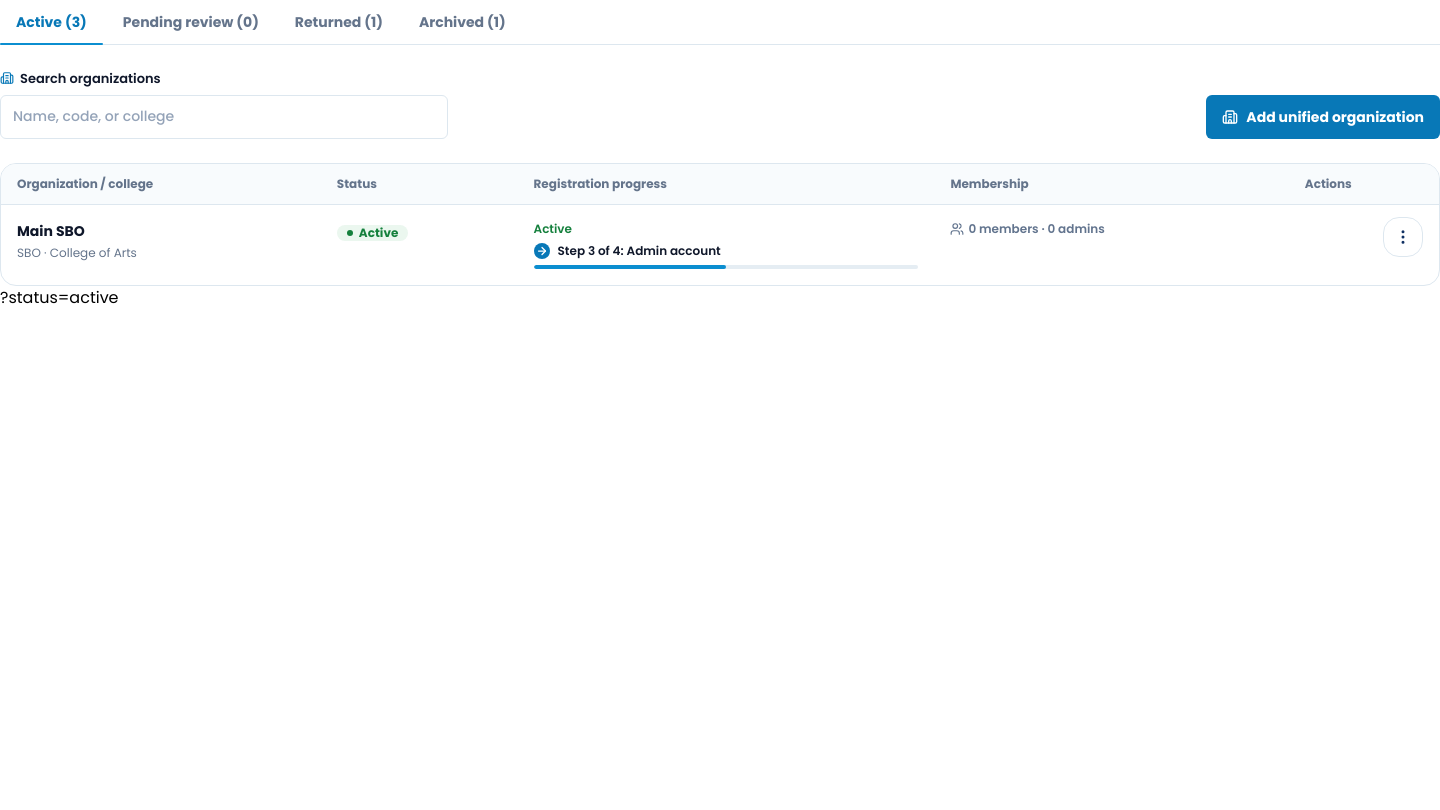
Test: SystemOrganizationsPage › lists organizations in a table and deletes through a three-dot action with typed confirmation
Expected: the heading "Main SBO" is shown, [17,220,85,240]
Expected: the table is shown, [1,164,1439,284]
Click the button named "Actions for Main SBO".
click(1403, 236)  # box [1383,216,1423,256]
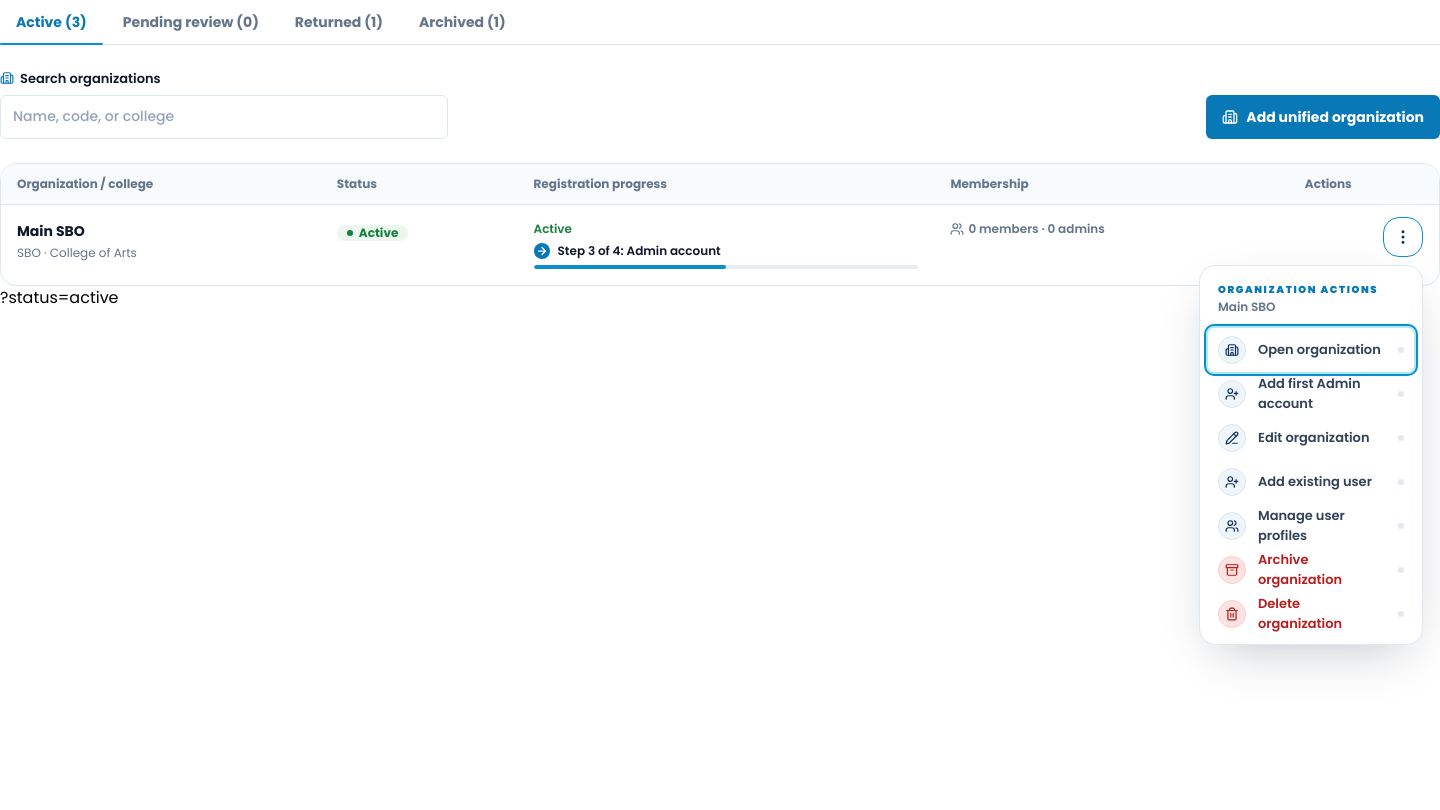
Click the menu item "Delete organization".
click(1311, 614)  # box [1208,592,1414,636]
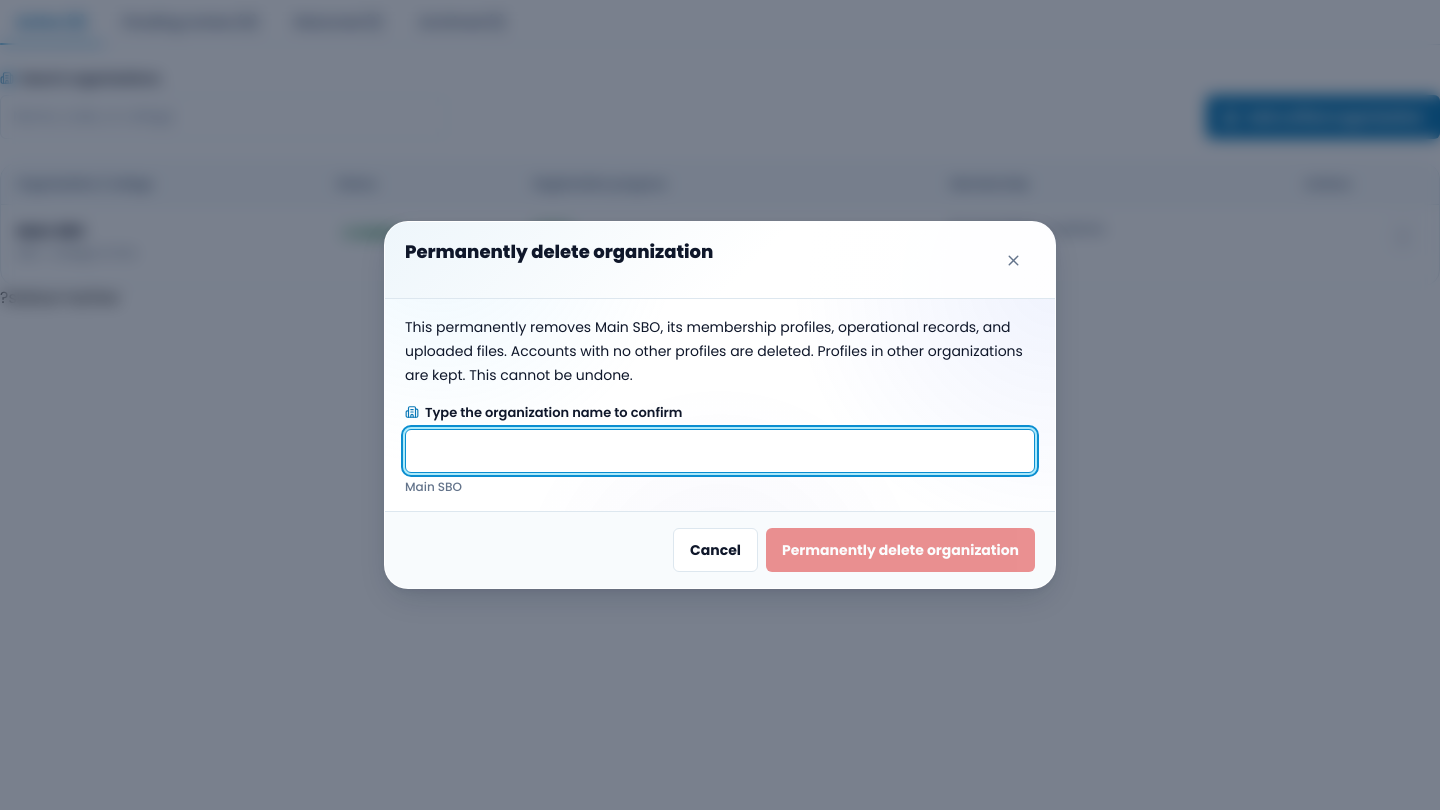
Result: the button "Permanently delete organization" is disabled at [766,528,1035,572]
Type "Main SBO" into the field labelled "Type the organization name to confirm".
click(720, 451); type("Main SBO")  # box [405,429,1035,473]
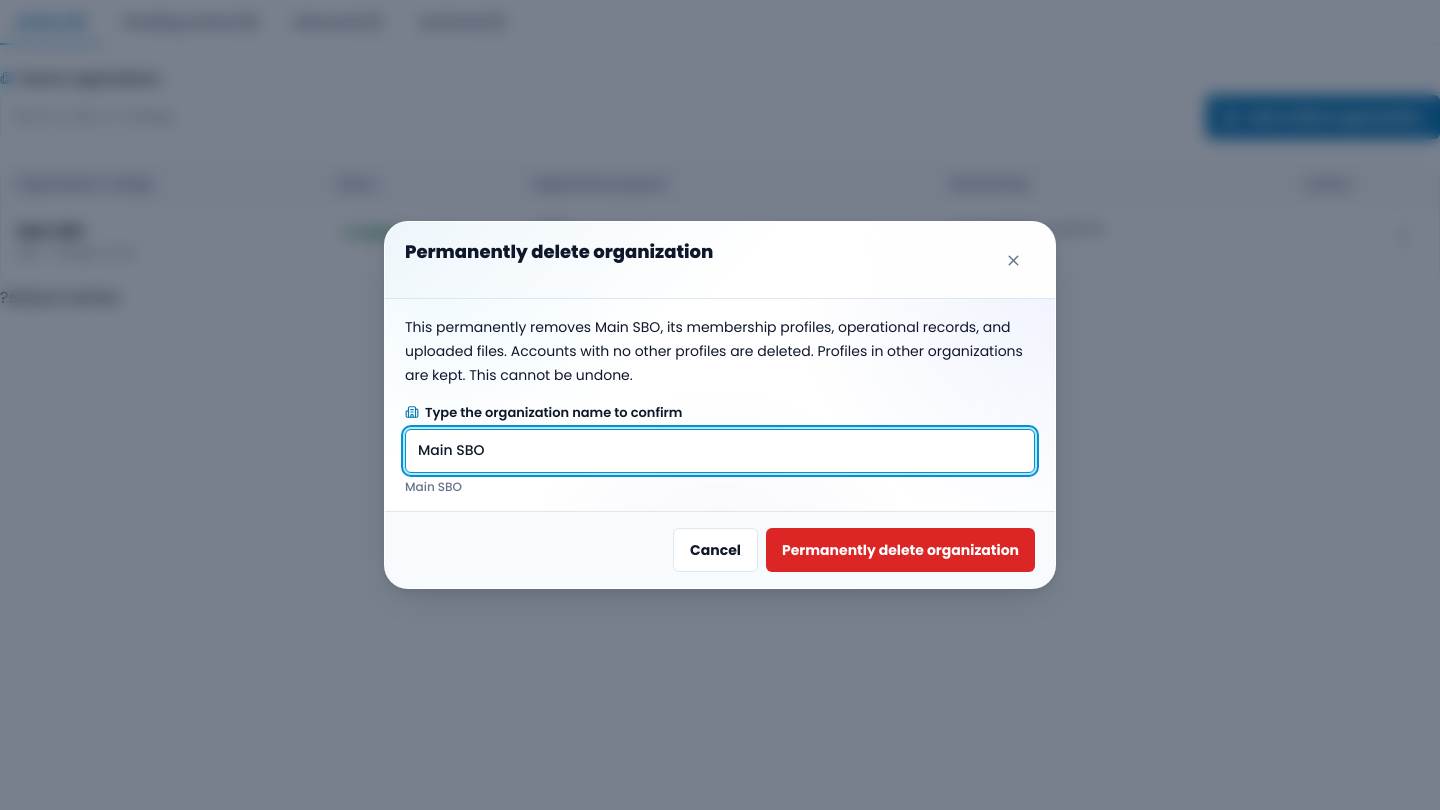
Click the button "Permanently delete organization".
click(900, 550)  # box [766,528,1035,572]
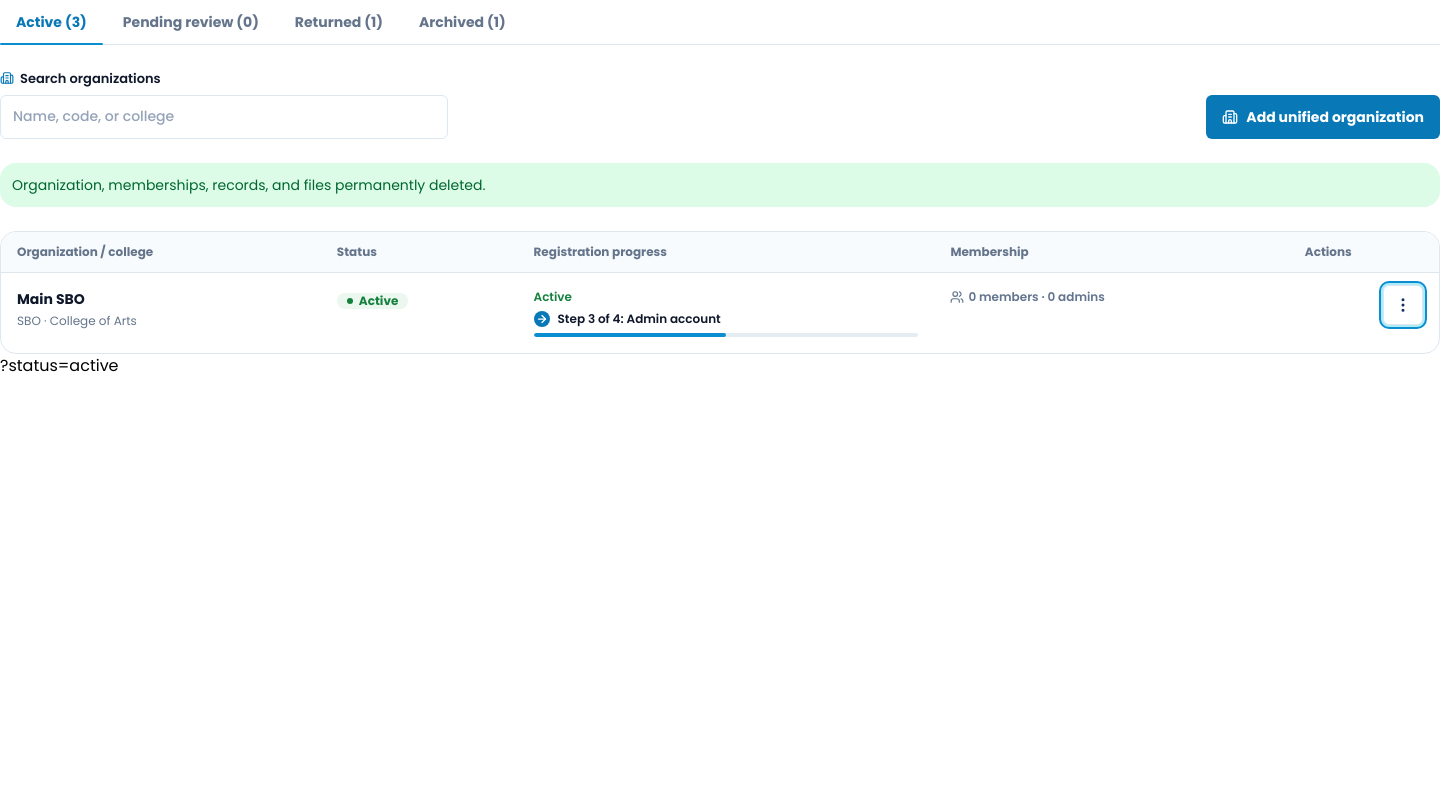
Result: the dialog is gone
